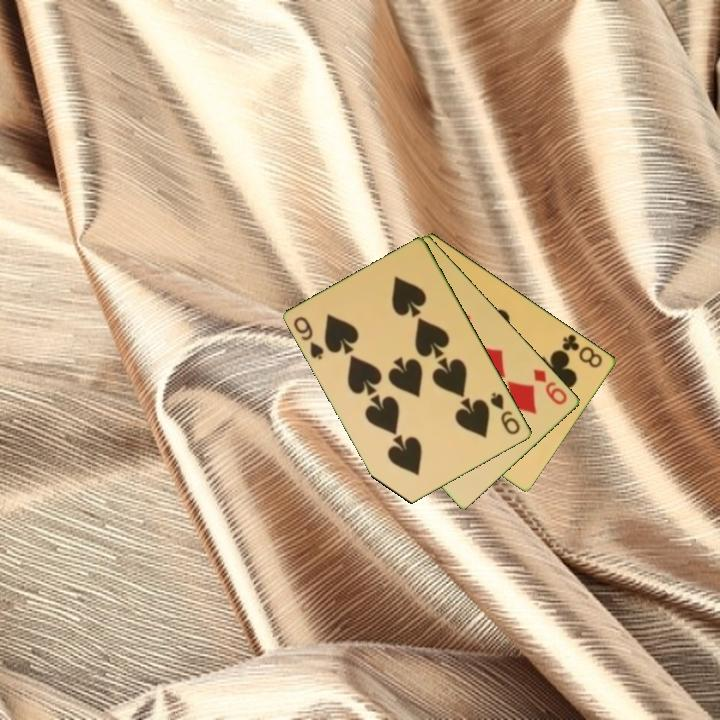8c: (559, 331, 606, 371)
9d: (530, 365, 570, 408)
9s: (487, 389, 524, 438), (290, 313, 327, 362)
